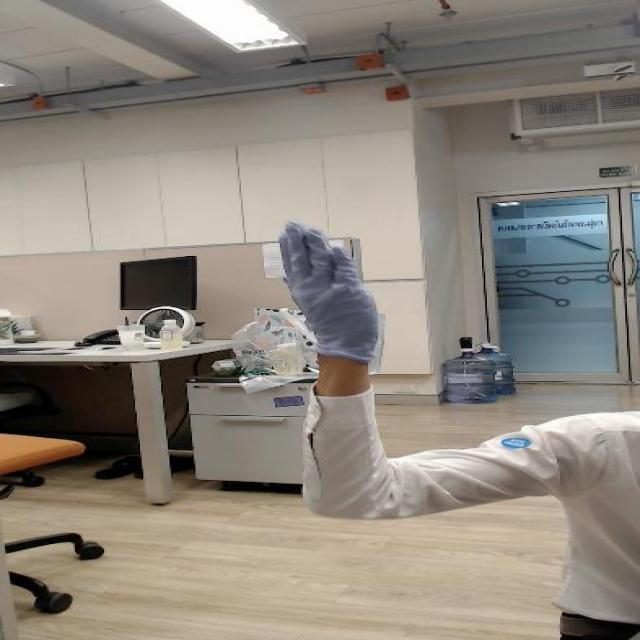Glove: (271, 220, 388, 361)
